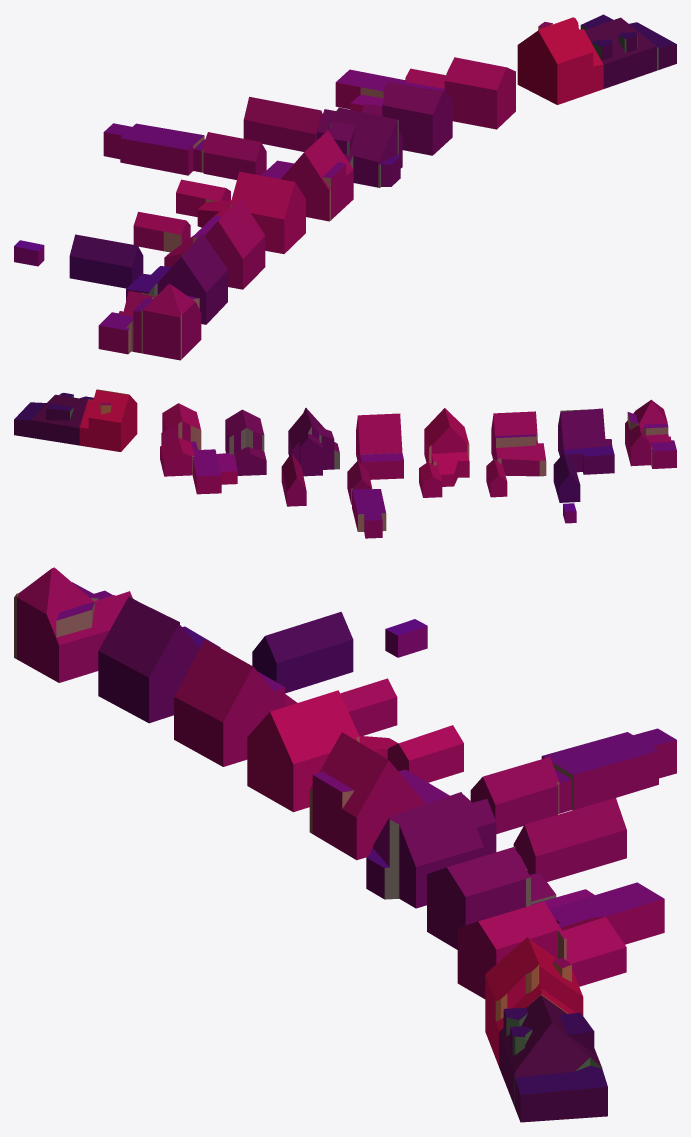
File: buildings_13_4.glb
3 renders of one model, top to bottom at view 1: azimuth 30°, elevation 25°; view 2: azimuth 150°, elevation 25°; view 3: azimuth 270°, elevation 25°, orthographic. The views are drawn at different scales.
Visible parts, largest first — view 1: buildings_13_4; view 2: buildings_13_4; view 3: buildings_13_4.
Boxes of the visible parts, <box> form: buildings_13_4: <box>14,14,676,360</box>; buildings_13_4: <box>14,389,676,538</box>; buildings_13_4: <box>14,567,676,1122</box>.
Size of the model in its own units: 111 by 9.55 by 62.28.
